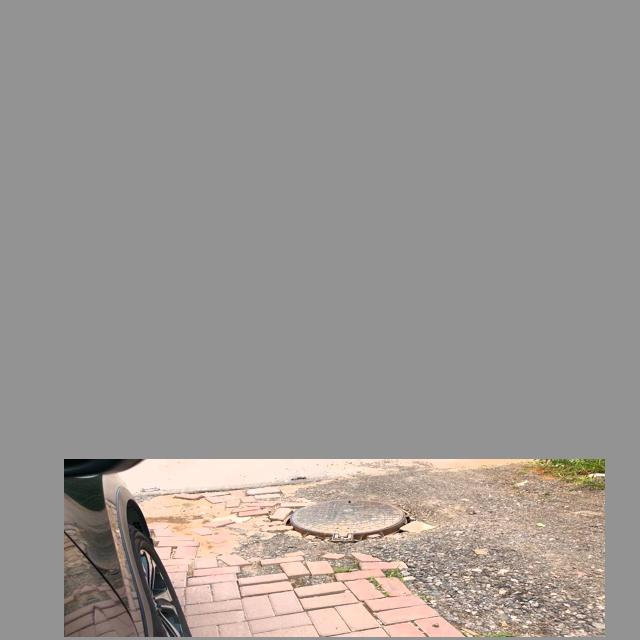circle: (242, 486, 447, 557)
